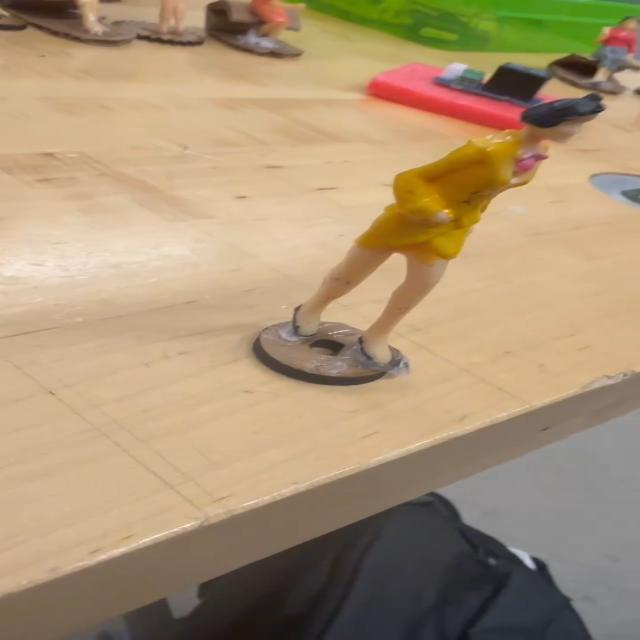Authorized: (295, 84, 622, 363)
